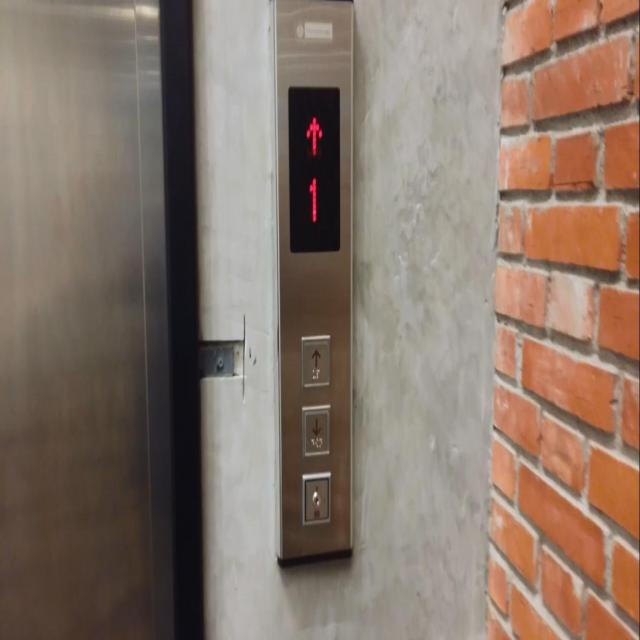down: (302, 404, 330, 456)
led: (286, 82, 342, 254)
unknown: (302, 472, 330, 523)
up: (301, 334, 331, 388)
